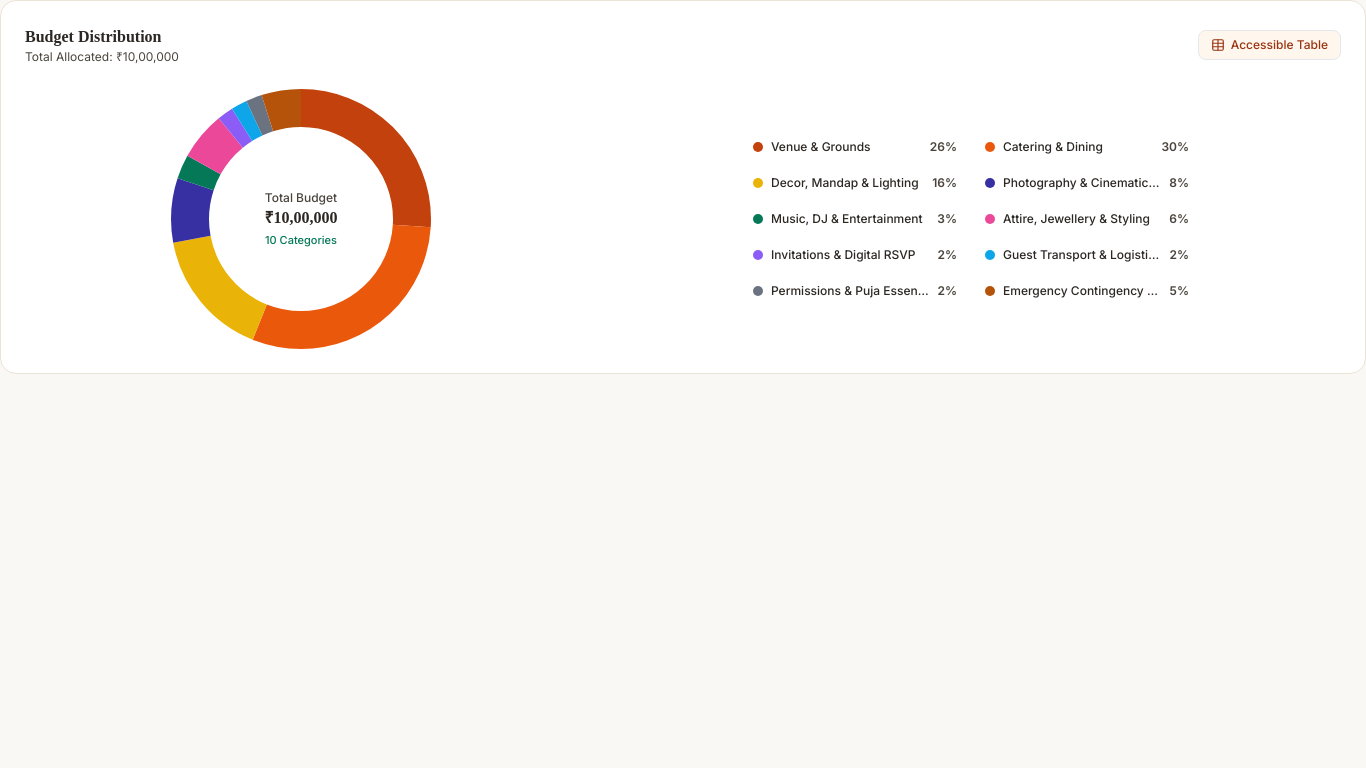
Test: AccessibleDonutChart Component › provides an accessible table alternative toggle that renders a structured data table
Click toggle to show accessible table
Click the button "Accessible Table": (1269, 45) [1198,30,1341,60]
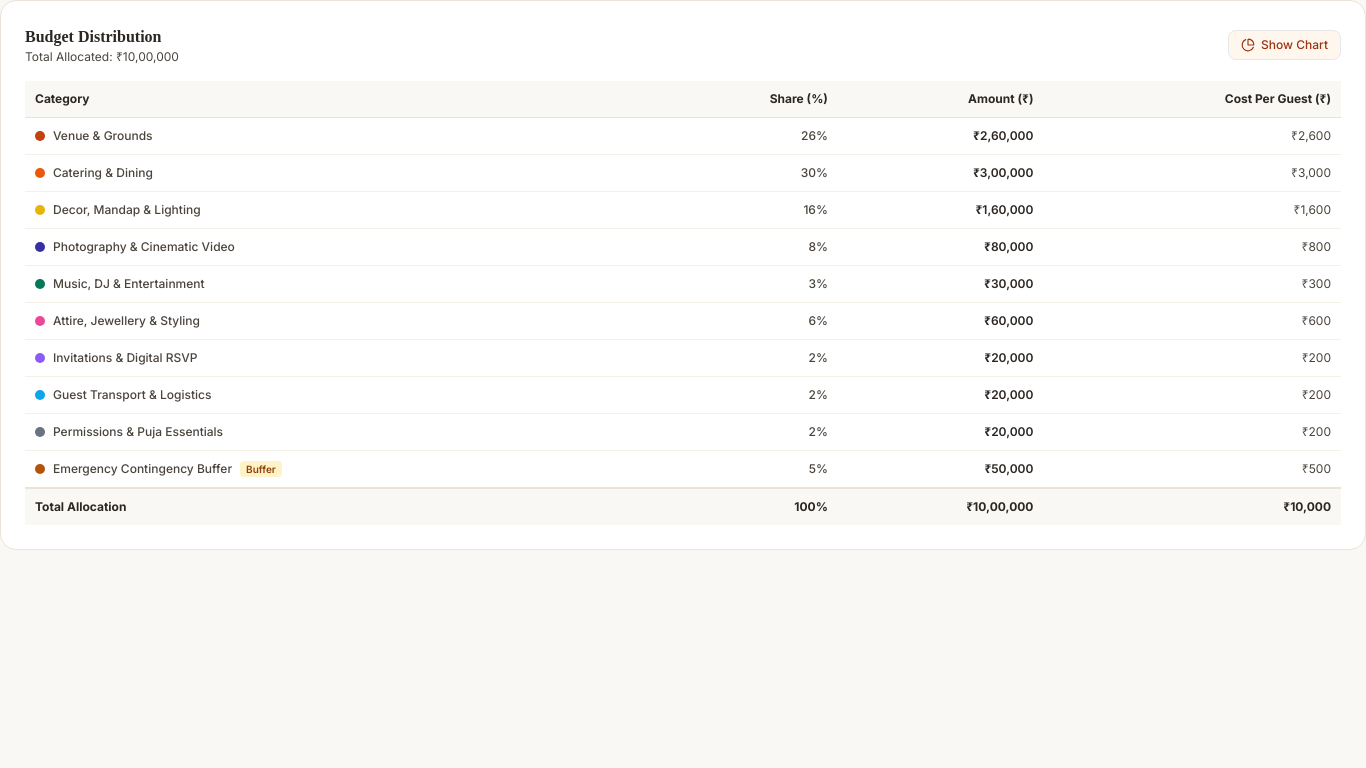
Result: the button named "Accessible Table" is expanded at [1228,30,1341,60]
Result: the table is shown at [25,81,1341,525]
Result: the column heading "Category" is shown at [25,81,654,118]
